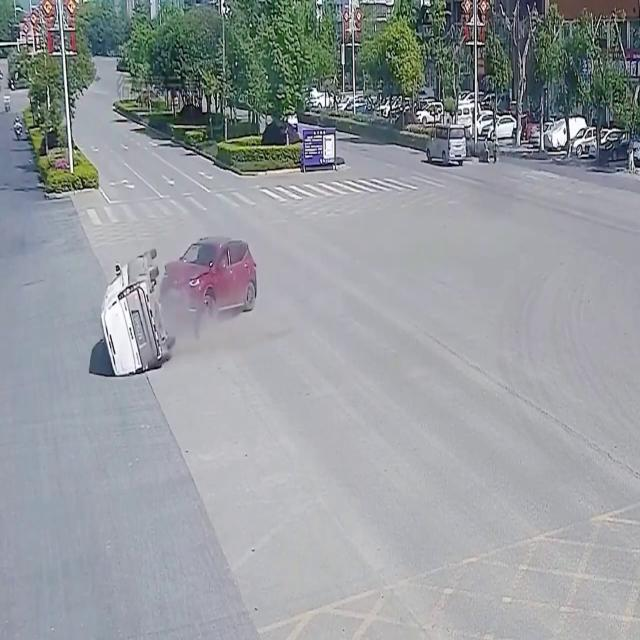multiple_accident: (72, 192, 260, 383)
